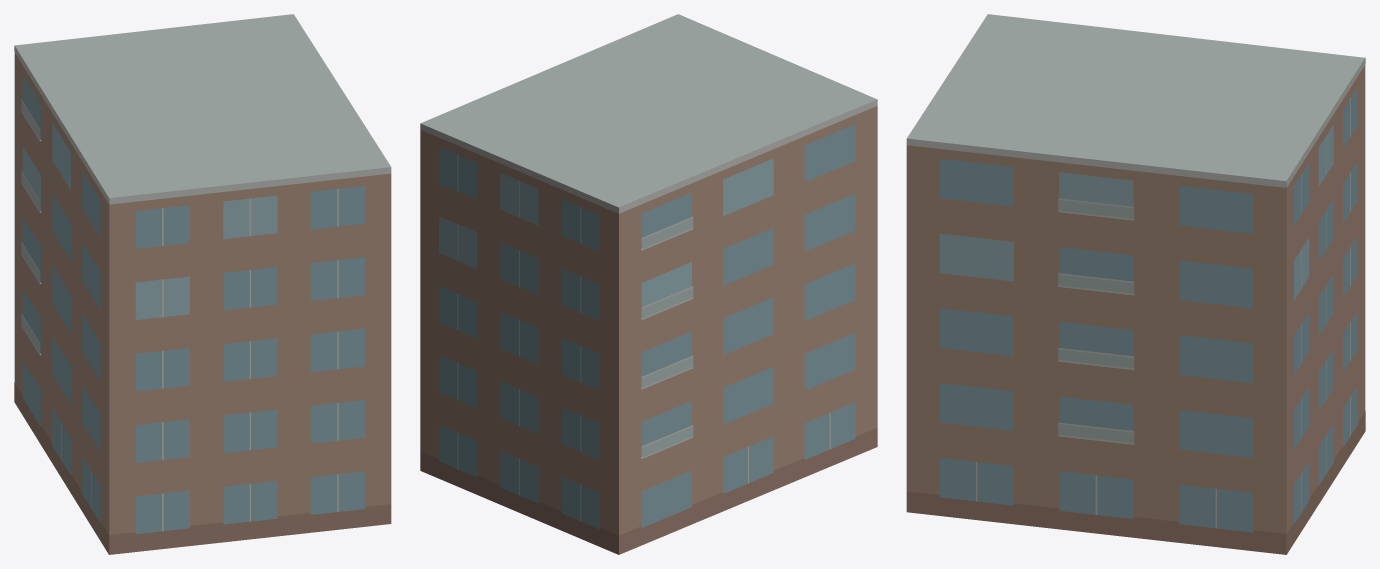
Rendered from survey-upis-32879219.glb.
3 renders of one model, left to right at view 1: azimuth 30°, elevation 25°; view 2: azimuth 150°, elevation 25°; view 3: azimuth 270°, elevation 25°, orthographic. The views are drawn at different scales.
Visible parts, largest first — view 1: survey-upis-32879219.tmp; view 2: survey-upis-32879219.tmp; view 3: survey-upis-32879219.tmp.
Boxes of the visible parts, x1=… form: survey-upis-32879219.tmp: x1=14, y1=14, x2=391, y2=554; survey-upis-32879219.tmp: x1=420, y1=14, x2=877, y2=554; survey-upis-32879219.tmp: x1=906, y1=14, x2=1365, y2=554.
Size of the model in its own units: 13.06 by 13.6 by 15.14.
